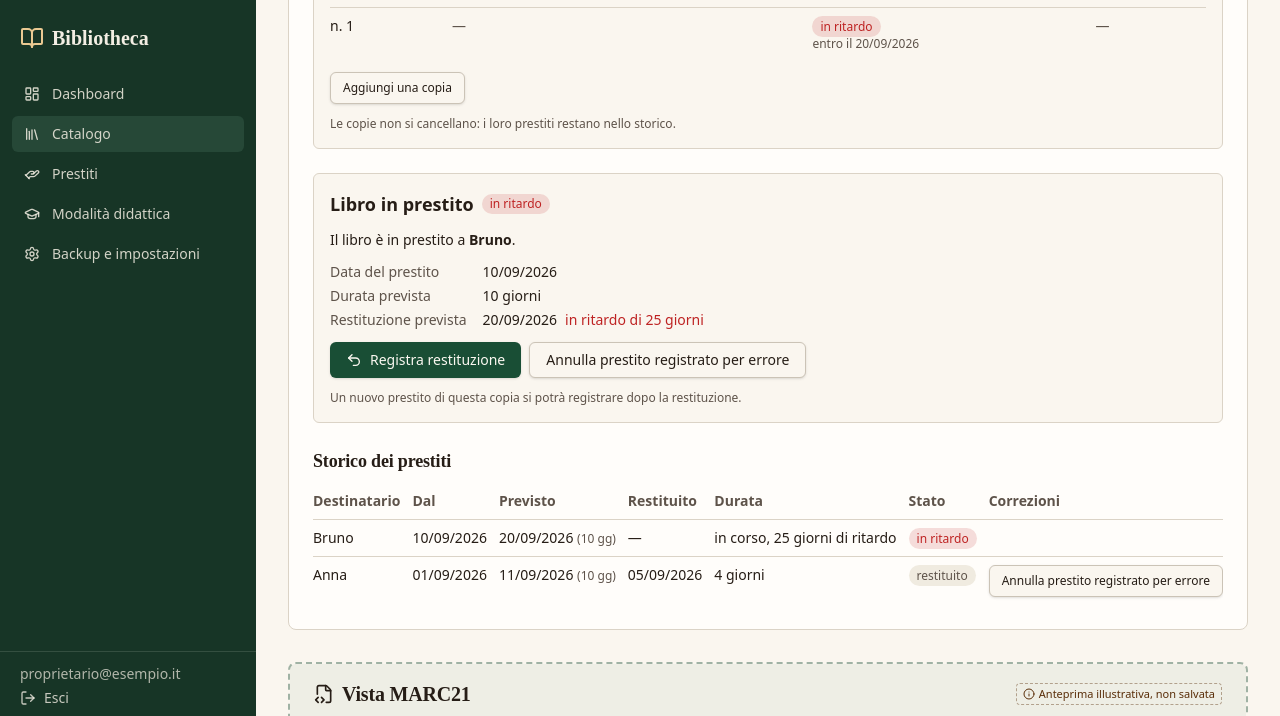
Prestiti — scheda del libro › annullamento della restituzione rifiutato dal server (copia prestata di nuovo): messaggio comprensibile, nessun cambiamento
(page scrolled)
Click the button "Registra restituzione". click: [426, 360]
box: x1=330 y1=342 x2=521 y2=378
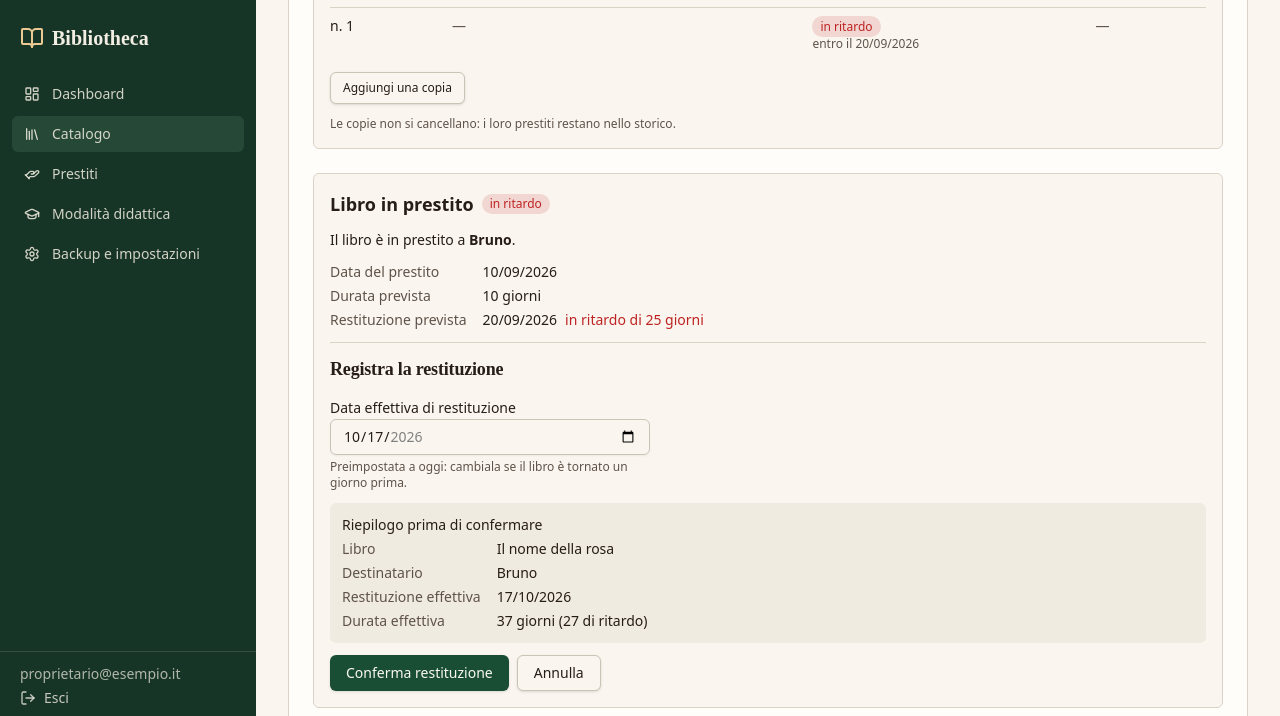
Click the button "Conferma restituzione". click: [419, 673]
box: x1=330 y1=655 x2=509 y2=691
(page scrolled)
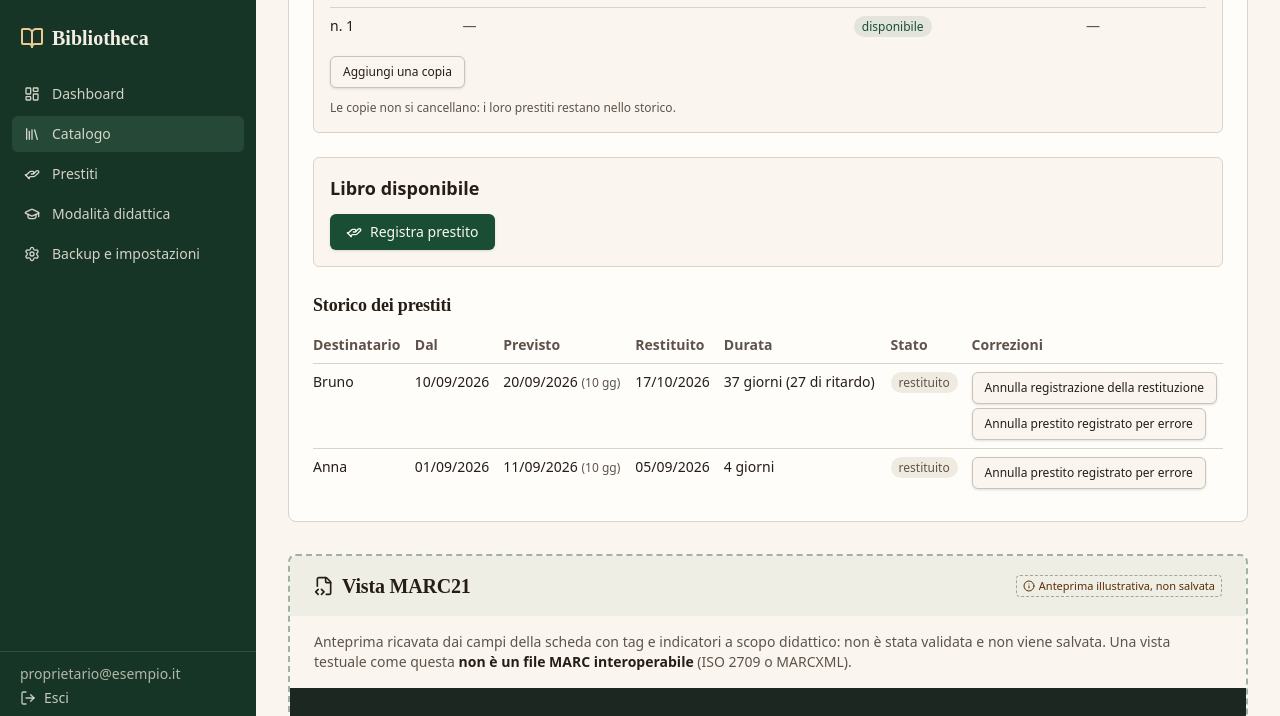
Expected: the button "Annulla prestito registrato per errore" in the row of "Anna" is shown, x1=972 y1=457 x2=1206 y2=489
Expected: the button "Annulla registrazione della restituzione" is shown, x1=972 y1=372 x2=1217 y2=404
